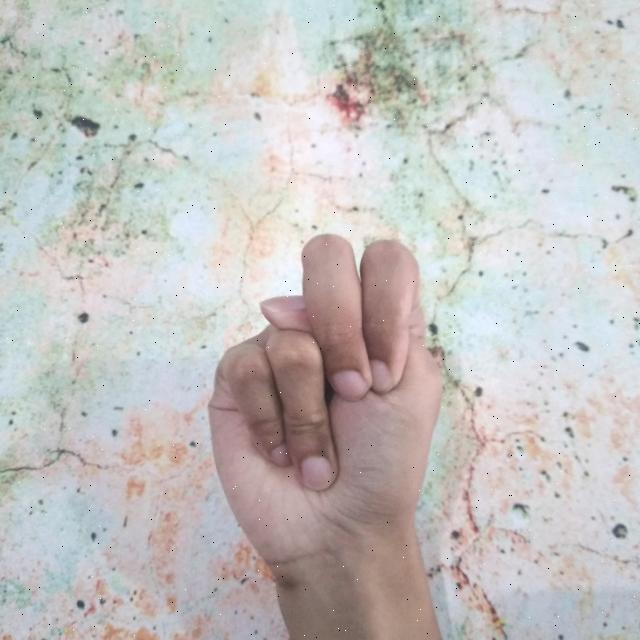N: (202, 225, 456, 640)
